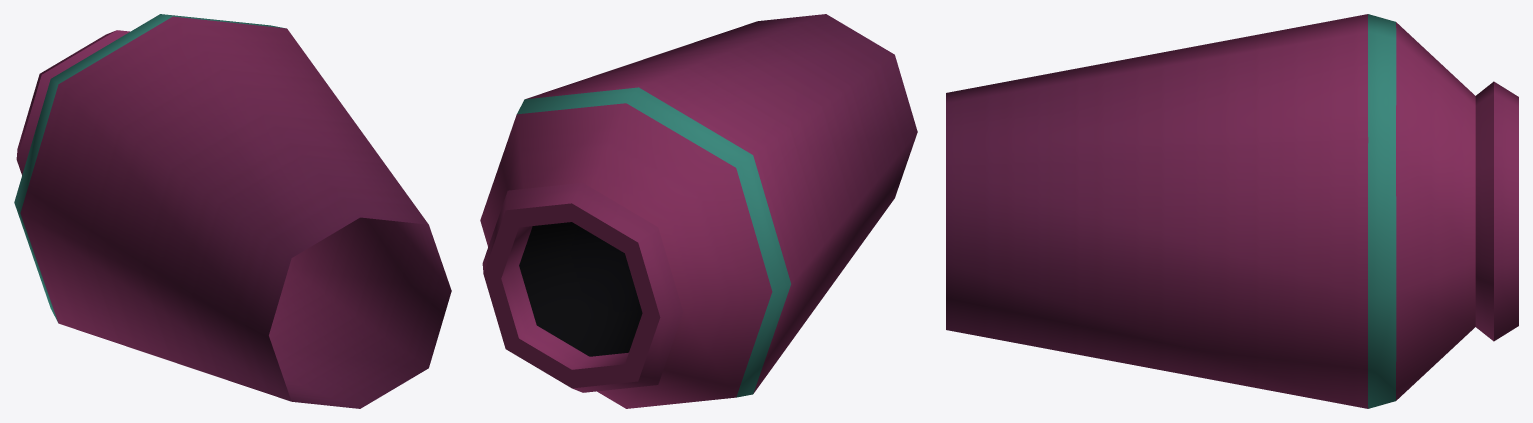
File: Urn 03.FBX
3 views of the same model, side by side, from view 1: azimuth 30°, elevation 25°; view 2: azimuth 150°, elevation 25°; view 3: azimuth 270°, elevation 25° (orthographic). The views are drawn at different scales.
Parts seen in each view (by area): view 1: Urn 03; view 2: Urn 03; view 3: Urn 03.
Part boxes in pixels (x1,y1,x2,y2): Urn 03: [14, 14, 451, 408]; Urn 03: [480, 14, 917, 408]; Urn 03: [946, 14, 1518, 408].
Size of the model in its own units: 32.76 by 32.76 by 47.34.
